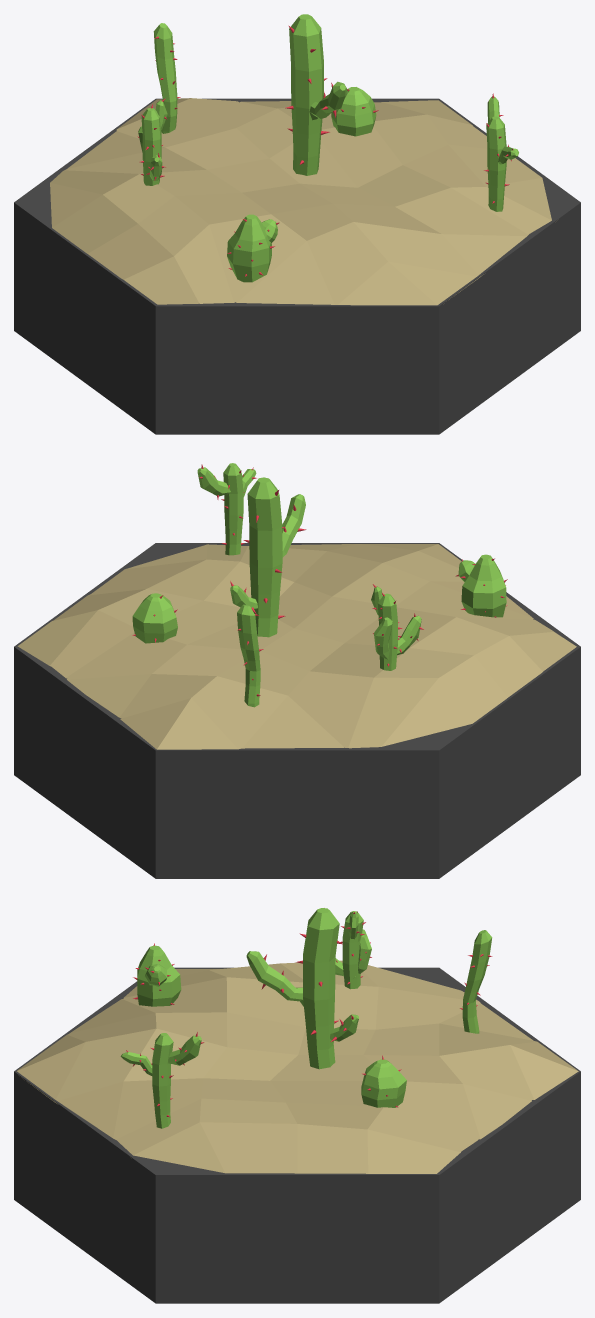
Rendered from center.glb.
3 renders of one model, top to bottom at view 1: azimuth 30°, elevation 25°; view 2: azimuth 150°, elevation 25°; view 3: azimuth 270°, elevation 25°, orthographic.
Parts seen in each view (by area): view 1: Base_Tile, Ground, Cube.013_M_Cactus_2_Material_0, Cube.013_M_CactusColor2_1_Material_0; view 2: Base_Tile, Ground, Cube.013_M_Cactus_2_Material_0, Cube.013_M_CactusColor2_1_Material_0; view 3: Base_Tile, Ground, Cube.013_M_Cactus_2_Material_0, Cube.013_M_CactusColor2_1_Material_0.
Boxes of the visible parts, <box> form: Base_Tile: <box>14,98,580,434</box>; Ground: <box>50,98,551,305</box>; Cube.013_M_Cactus_2_Material_0: <box>138,14,518,282</box>; Cube.013_M_CactusColor2_1_Material_0: <box>137,25,513,276</box>; Base_Tile: <box>14,543,580,878</box>; Ground: <box>17,544,576,749</box>; Cube.013_M_Cactus_2_Material_0: <box>132,463,506,707</box>; Cube.013_M_CactusColor2_1_Material_0: <box>132,464,507,696</box>; Base_Tile: <box>14,967,580,1303</box>; Ground: <box>17,960,578,1173</box>; Cube.013_M_Cactus_2_Material_0: <box>120,908,492,1128</box>; Cube.013_M_CactusColor2_1_Material_0: <box>126,911,492,1117</box>.
Bounding box in the file's own units: 1.73 × 1.17 × 2.
